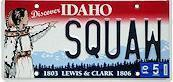placa de veiculo: (4, 1, 169, 82)
